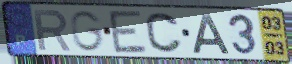3: (225, 13, 260, 57)
A: (191, 12, 231, 55)
C: (143, 11, 185, 54)
E: (106, 9, 150, 55)
G: (69, 10, 106, 53)
R: (32, 8, 73, 53)
